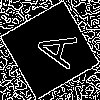A: (25, 25, 78, 70)
